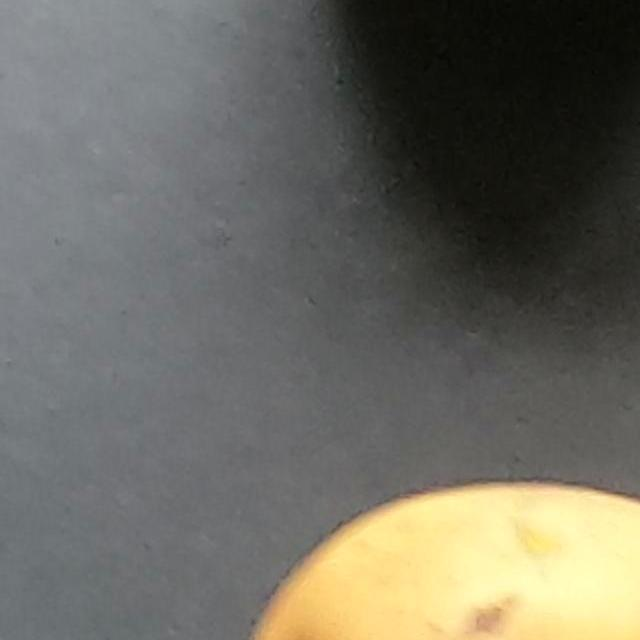potato: (167, 456, 640, 640)
